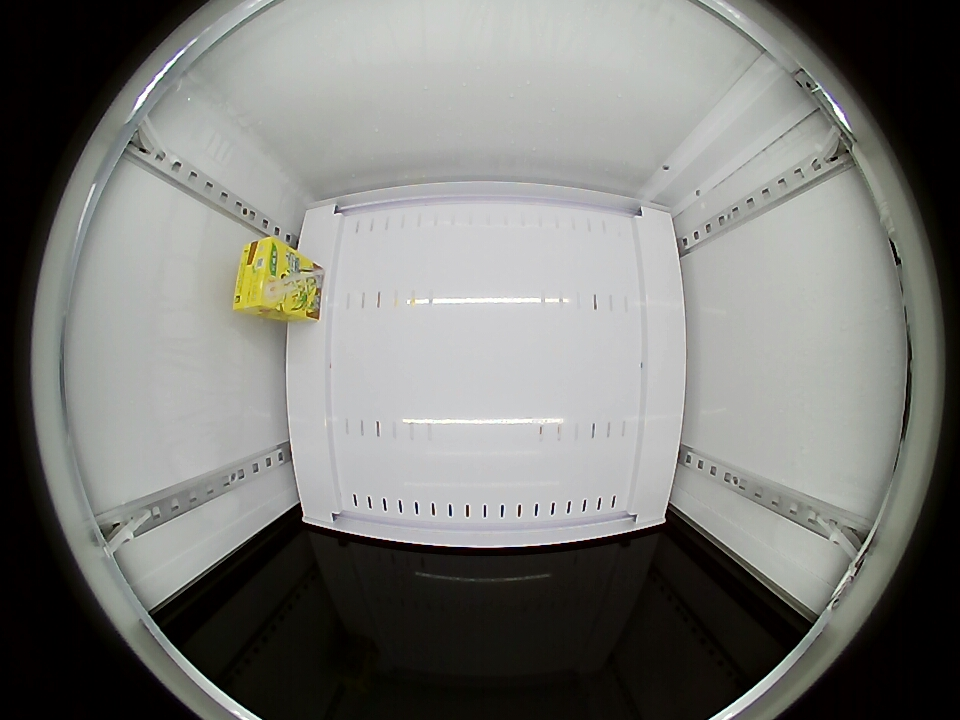weitaningmeng: (234, 237, 289, 316)
